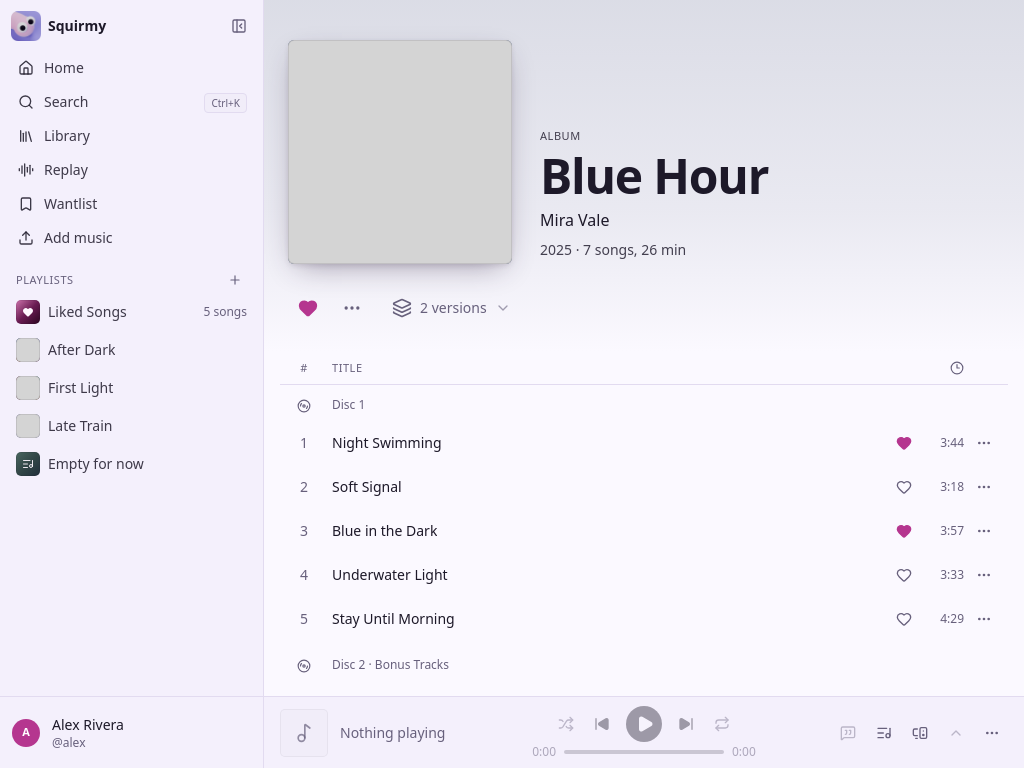
Test: album page › versions › says on the entry when the server refused the pick
Click the button with aria-label "Versions of Blue Hour" at (451, 308), box [376, 288, 527, 328]
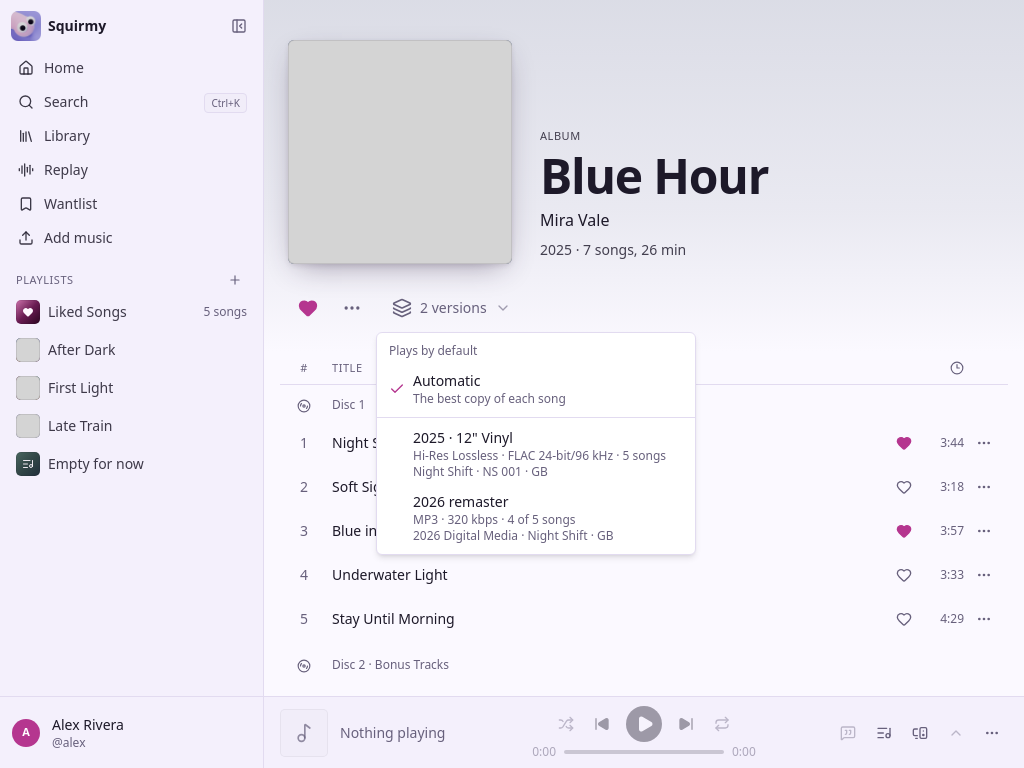
Click the menu item "2026 remaster" at (513, 518), box [413, 492, 614, 544]
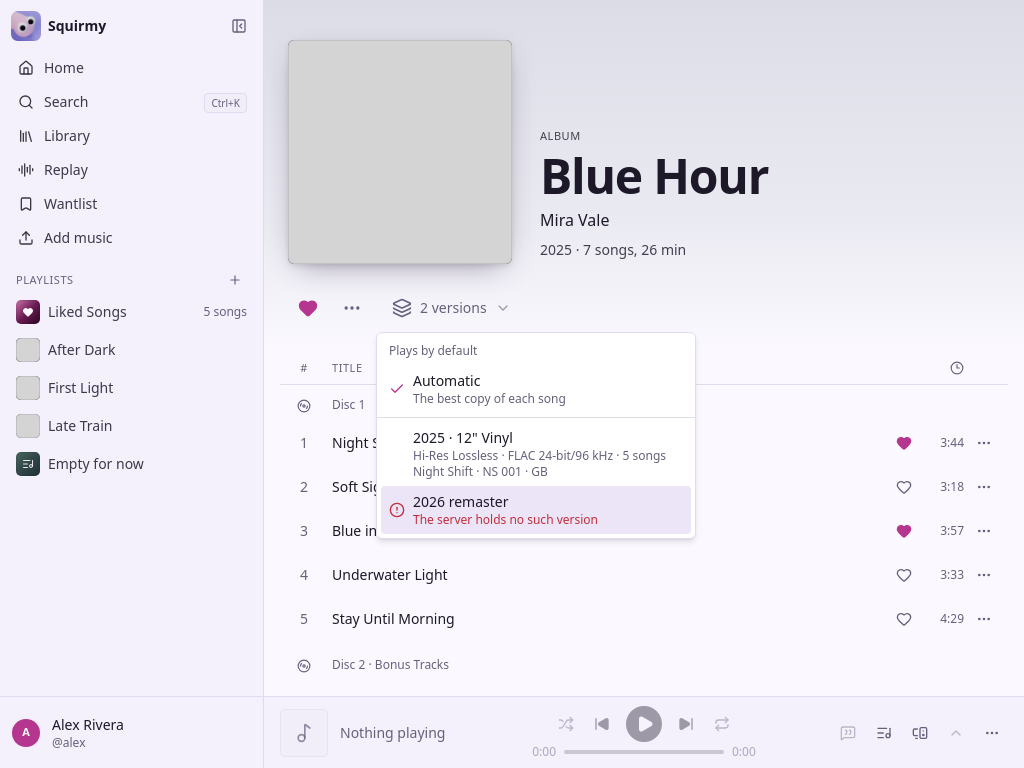
Expected: the menu item "2026 remaster The server holds no such version" is shown, [381, 486, 691, 534]
